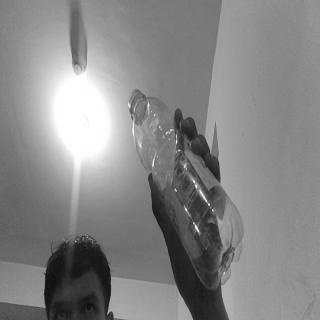plastic_bottles: (128, 88, 245, 289)
